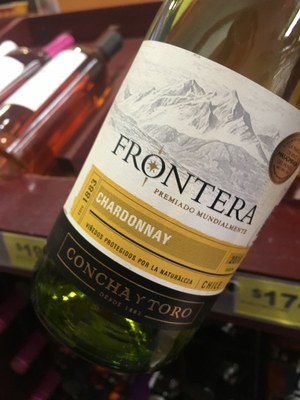frontera chardonnay: (45, 22, 300, 389)
